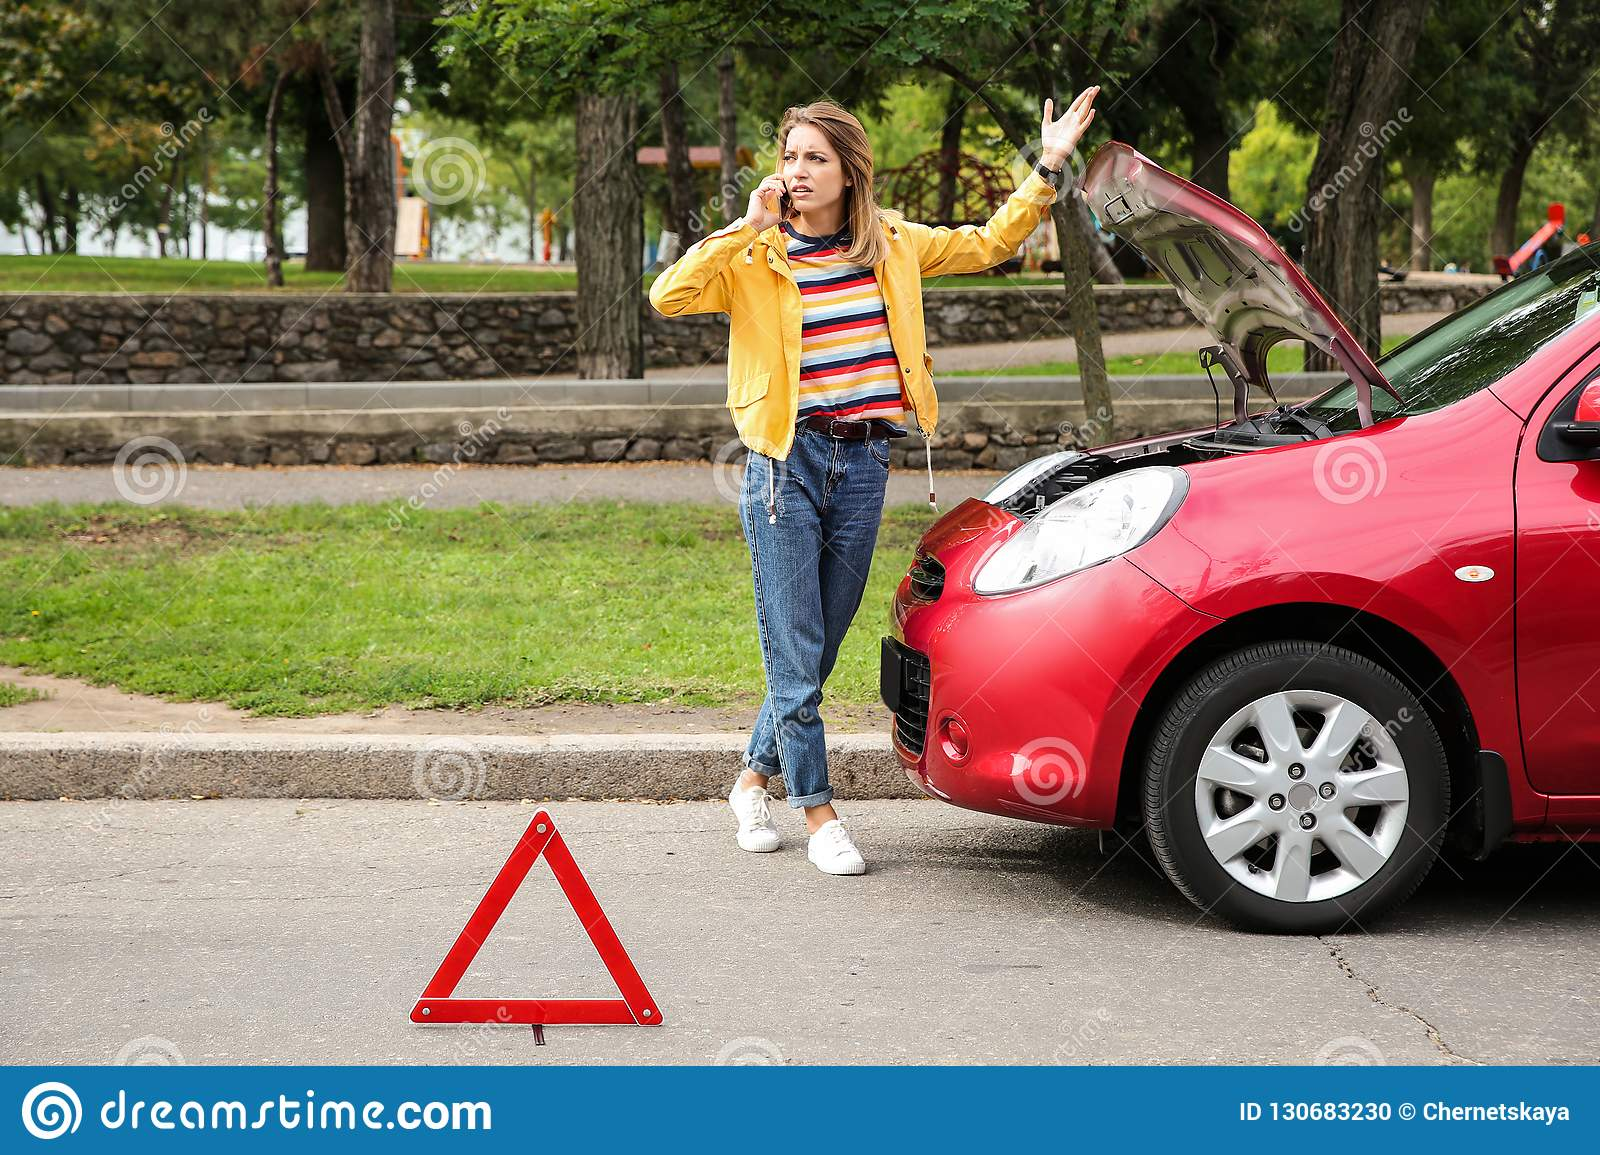phone: (771, 176, 794, 222)
talk: (743, 144, 836, 229)
